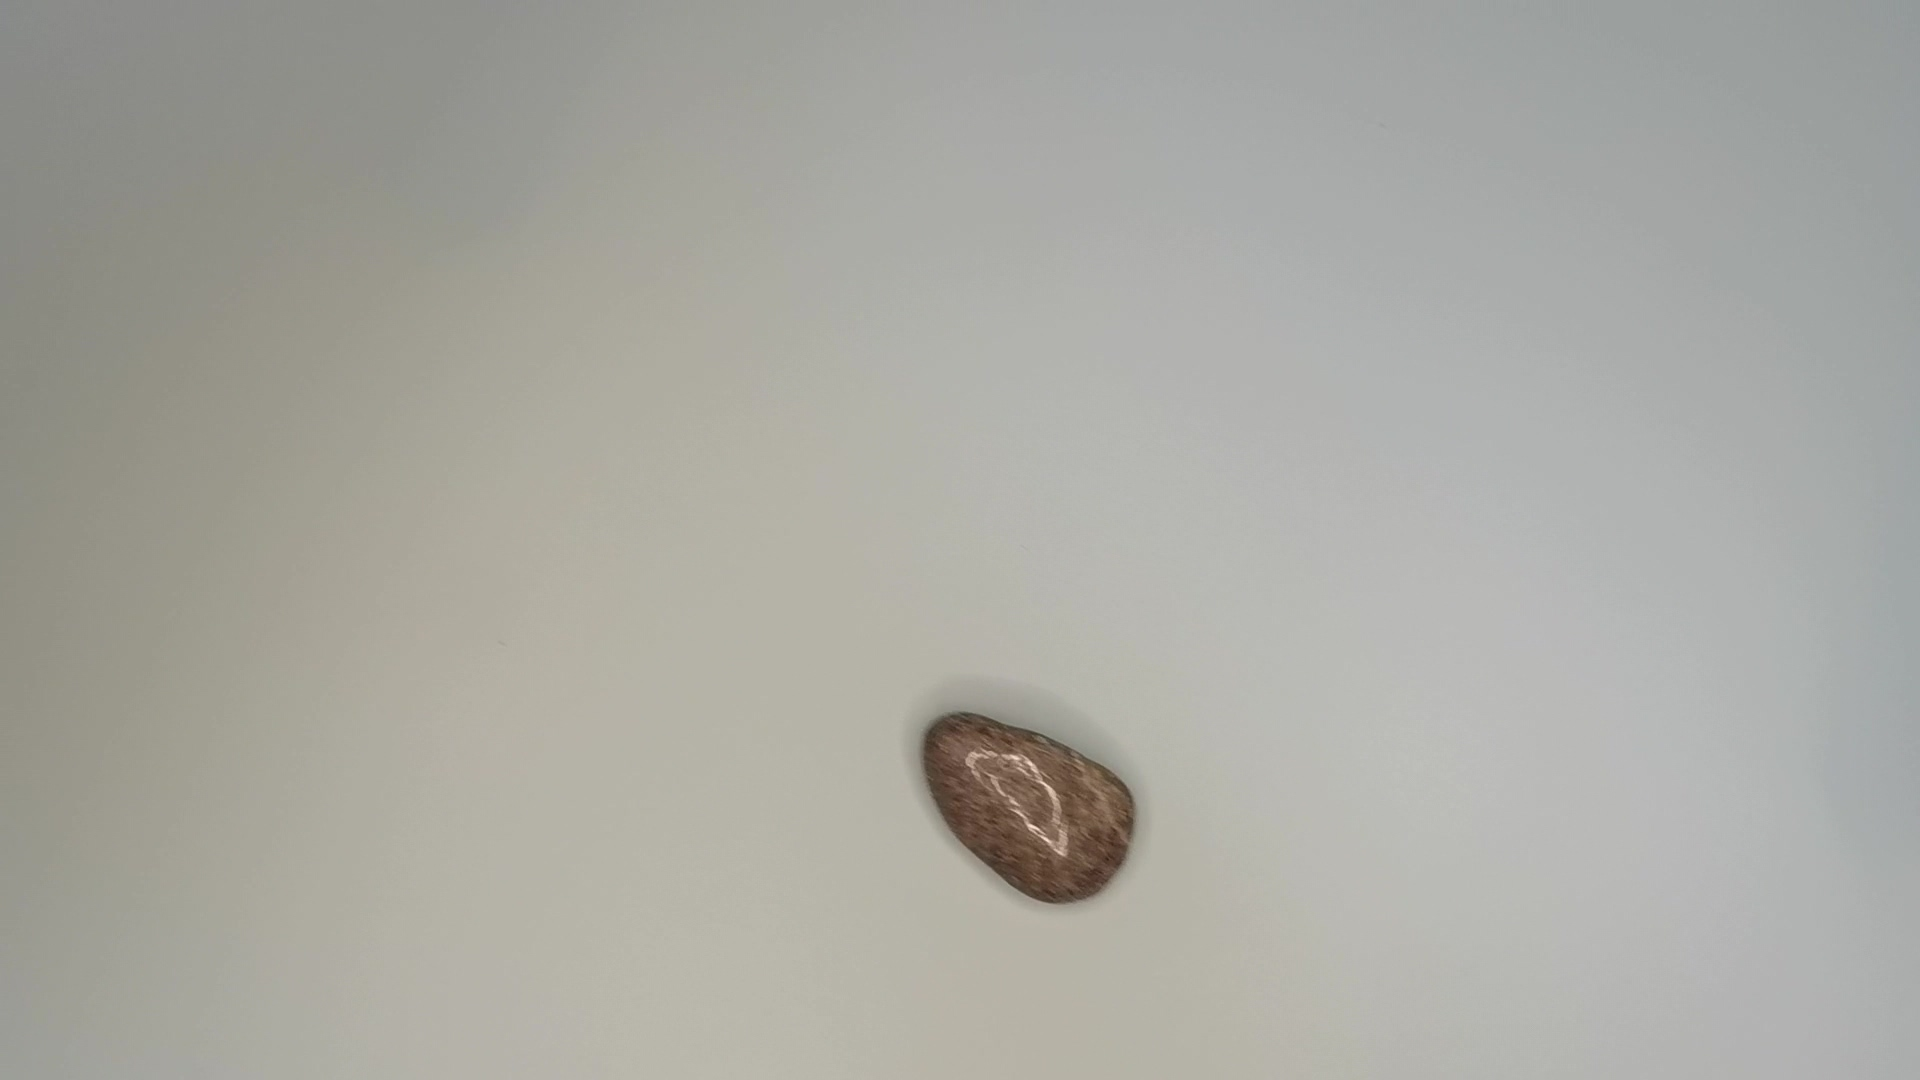ceramic: (916, 708, 1149, 913)
